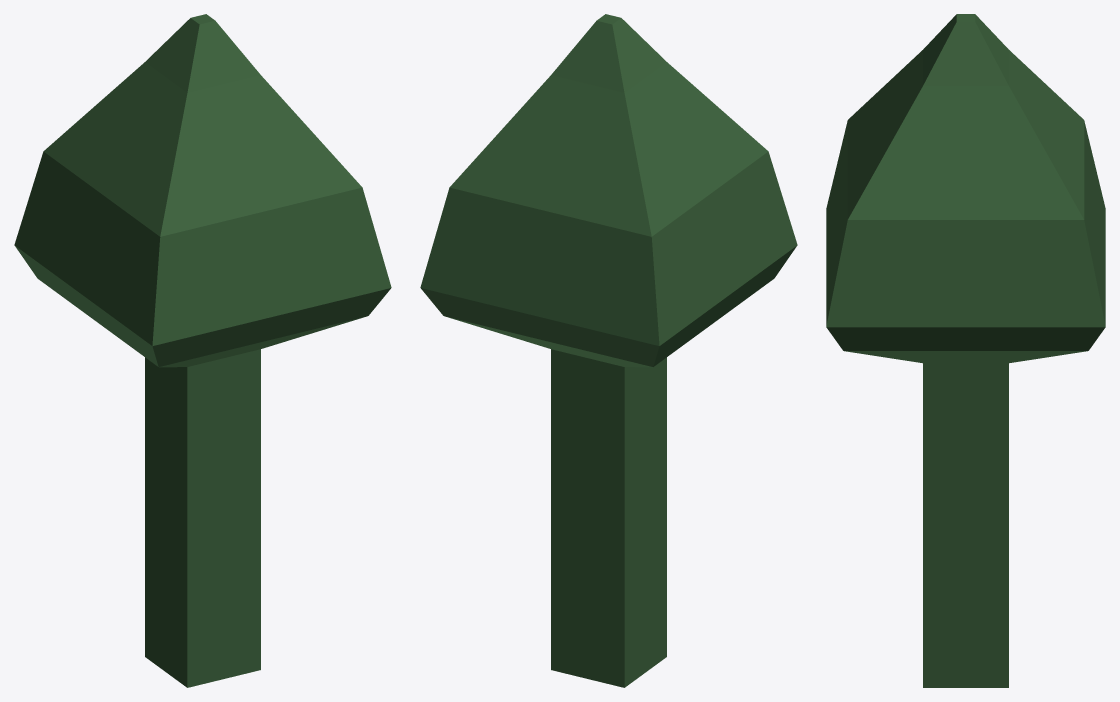
Rendered from tree.fbx.
3 views of the same model, side by side, from view 1: azimuth 30°, elevation 25°; view 2: azimuth 150°, elevation 25°; view 3: azimuth 270°, elevation 25° (orthographic).
Parts seen in each view (by area): view 1: Cube.068; view 2: Cube.068; view 3: Cube.068.
Part boxes in pixels (x1,y1,x2,y2): Cube.068: (14, 14, 391, 687); Cube.068: (420, 14, 797, 687); Cube.068: (826, 14, 1105, 687).
Size of the model in its own units: 2.95 by 2.95 by 7.6.
